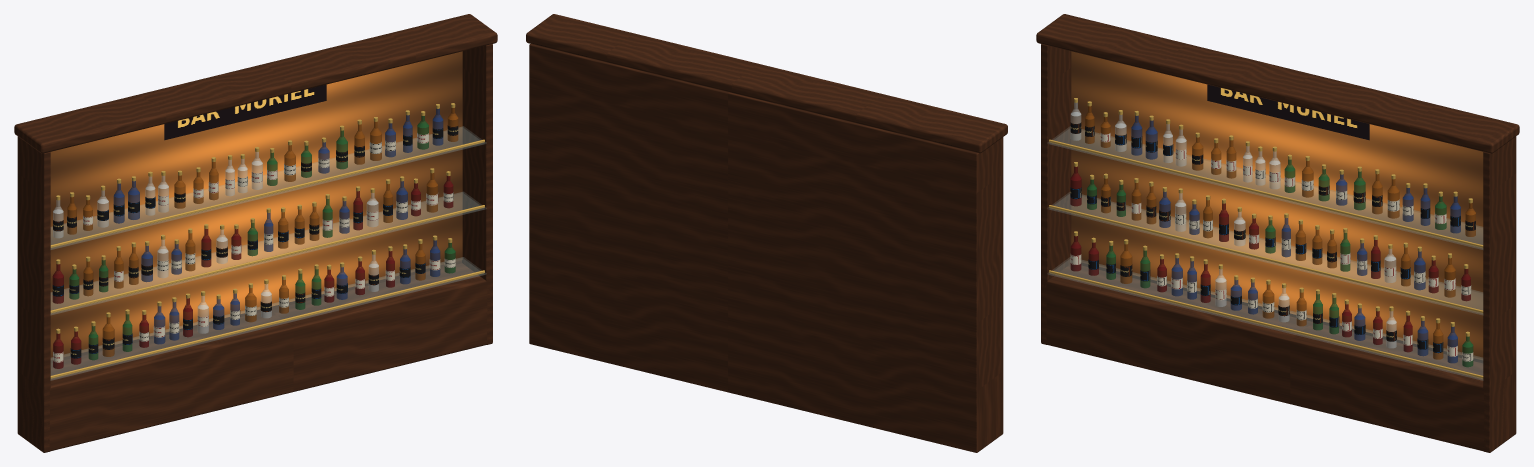
The model's file is botellero.glb.
3 views of the same model, side by side, from view 1: azimuth 30°, elevation 25°; view 2: azimuth 150°, elevation 25°; view 3: azimuth 330°, elevation 25° (orthographic).
Parts seen in each view (by area): view 1: botellero; view 2: botellero; view 3: botellero.
Boxes of the visible parts, x1,y1,x2,y2 form: botellero: (14, 14, 497, 452); botellero: (526, 14, 1007, 452); botellero: (1036, 14, 1519, 452).
Size of the model in its own units: 3.66 by 2.38 by 0.39.
Materials: 12 (4 with a texture image).
